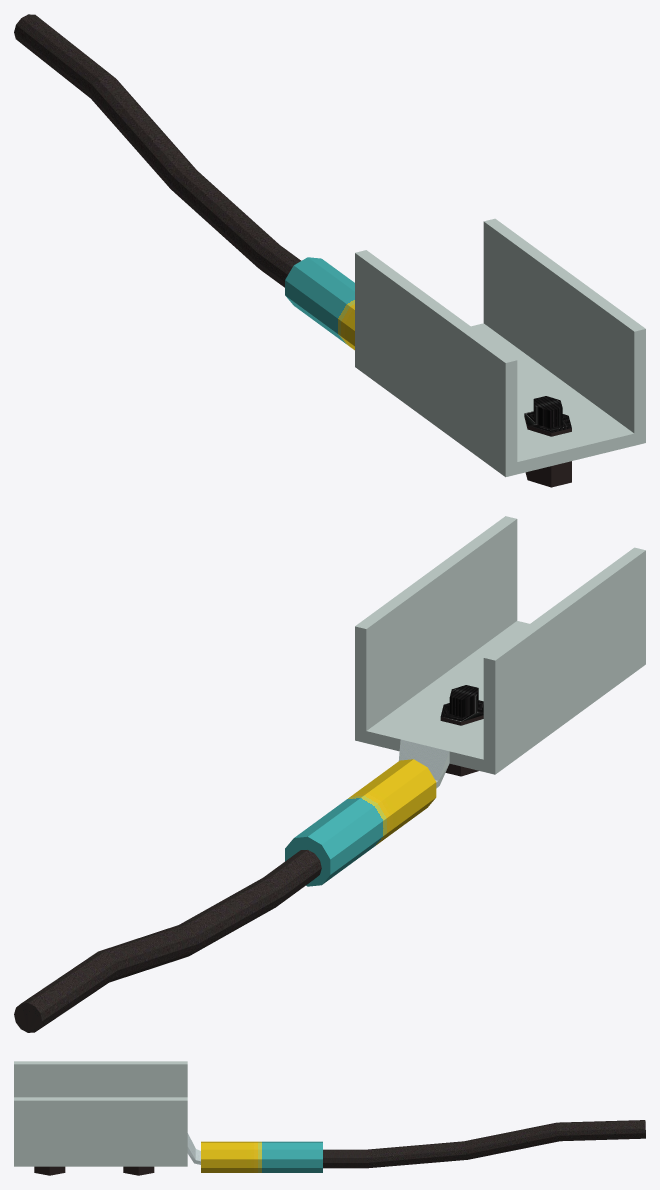
Rendered from jddz001-geode.glb.
3 renders of one model, top to bottom at view 1: azimuth 30°, elevation 25°; view 2: azimuth 150°, elevation 25°; view 3: azimuth 270°, elevation 25°, orthographic. The views are drawn at different scales.
Visible parts, largest first — view 1: Node; view 2: Node; view 3: Node.
Part boxes in pixels (x1,y1,x2,y2): Node: [14, 14, 645, 487]; Node: [14, 516, 645, 1032]; Node: [14, 1061, 645, 1175].
Size of the model in its own units: 0.0458 by 0.049 by 0.3094.
6 materials, 6 textured.
